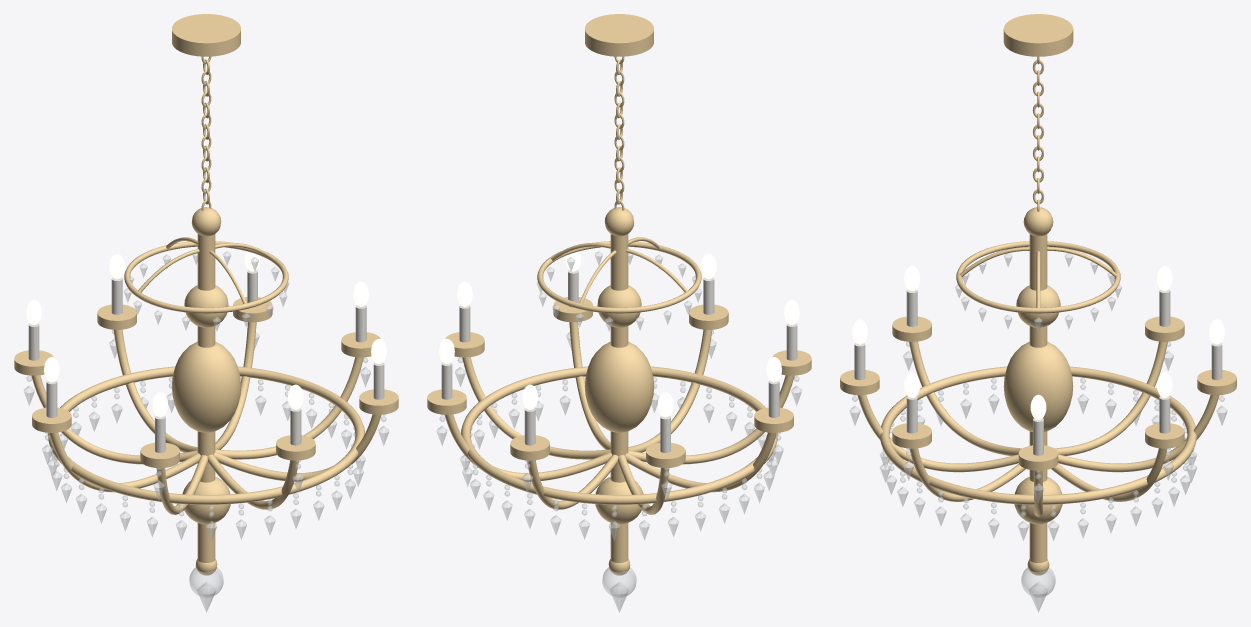
The model's file is web.glb.
The picture shows the model from 3 angles, left to right: view 1: azimuth 30°, elevation 25°; view 2: azimuth 150°, elevation 25°; view 3: azimuth 270°, elevation 25°; orthographic projection.
Visible parts, largest first — view 1: Brass frame, Crystals, Candle sleeves, Bulbs; view 2: Brass frame, Crystals, Candle sleeves, Bulbs; view 3: Brass frame, Crystals, Candle sleeves, Bulbs.
Part boxes in pixels (x1,y1,x2,y2): Brass frame: (14,14,398,575); Crystals: (23,251,389,612); Candle sleeves: (28,270,384,452); Bulbs: (26,251,386,417); Brass frame: (427,14,811,575); Crystals: (436,251,802,612); Candle sleeves: (441,270,797,452); Bulbs: (439,251,799,417); Brass frame: (840,14,1236,575); Crystals: (849,253,1227,612); Candle sleeves: (854,289,1222,455); Bulbs: (852,266,1224,419).
Size of the model in its own units: 0.8 by 1.3 by 0.8.
